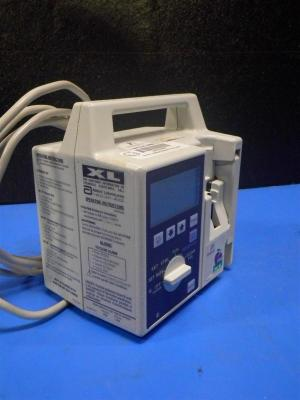plumxl1: (34, 104, 237, 308)
